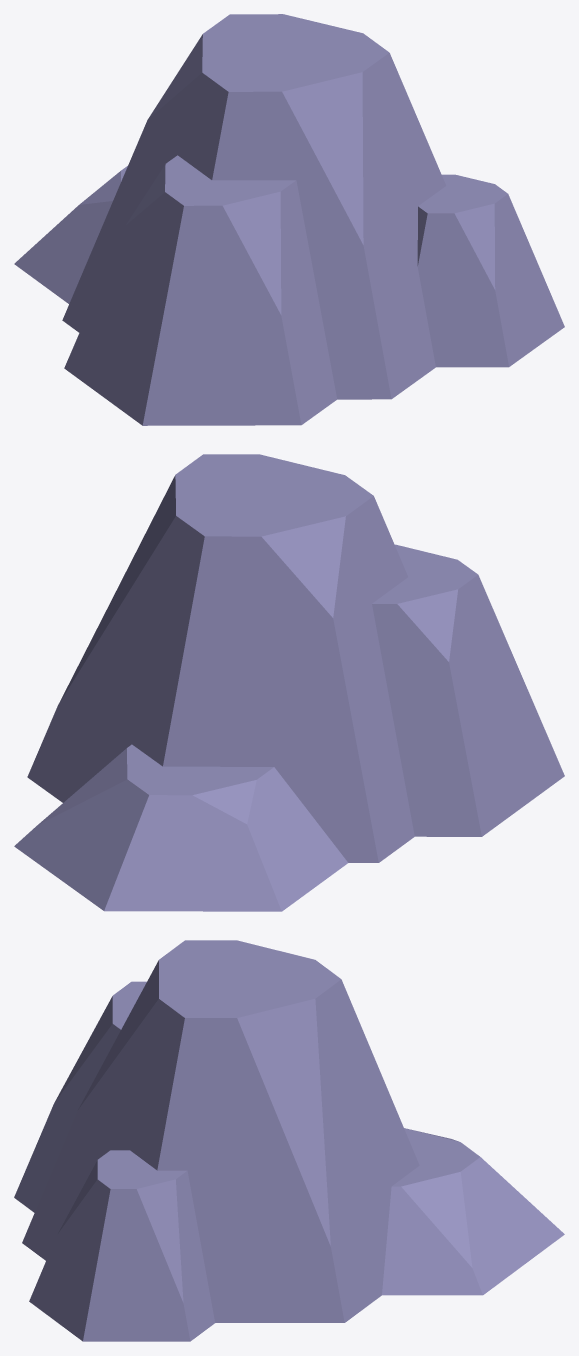
File: Rock.fbx
3 views of the same model, one above another, from view 1: azimuth 30°, elevation 25°; view 2: azimuth 150°, elevation 25°; view 3: azimuth 270°, elevation 25° (orthographic). The views are drawn at different scales.
Parts seen in each view (by area): view 1: mergedBlocks; view 2: mergedBlocks; view 3: mergedBlocks.
Part boxes in pixels (<box>): mergedBlocks: <box>14,14,564,425</box>; mergedBlocks: <box>14,454,564,911</box>; mergedBlocks: <box>14,940,564,1341</box>.
Bounding box in the file's own units: 20 × 12.2 × 23.09.
